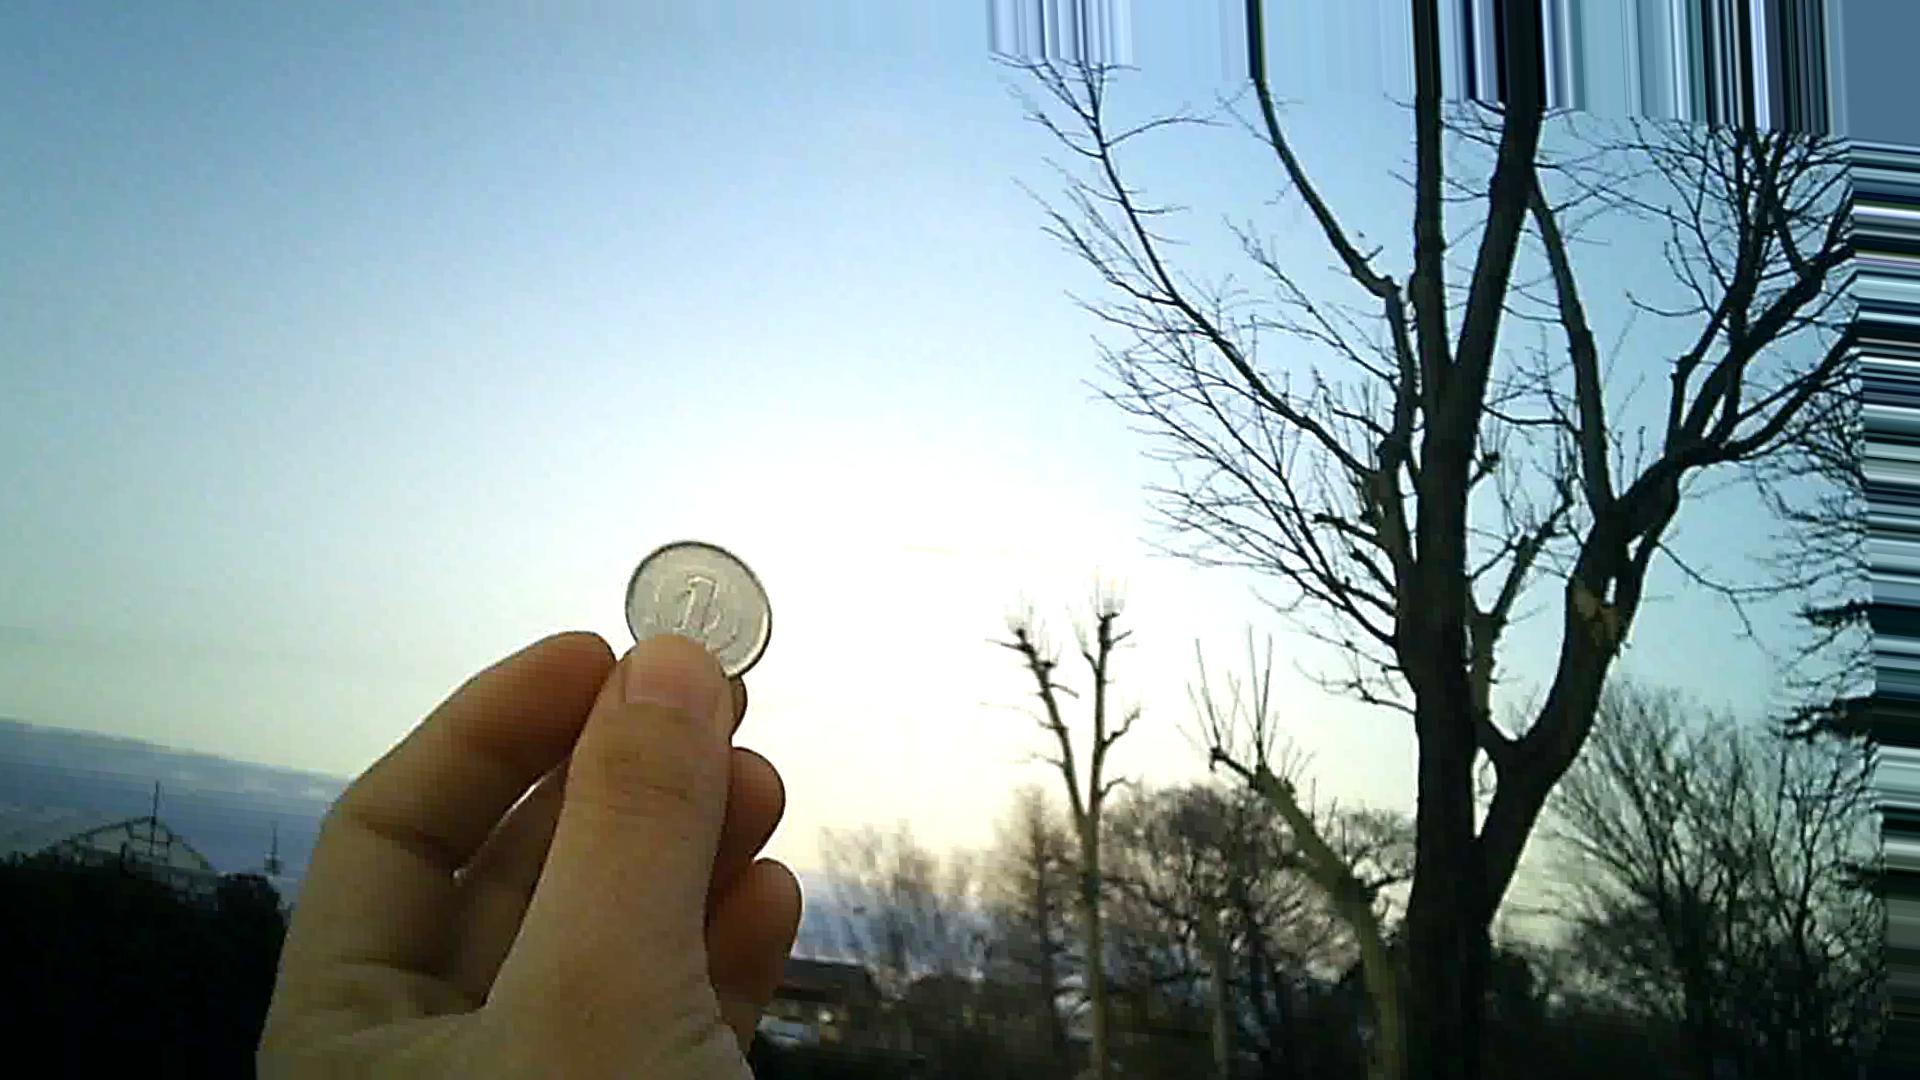1 Yen: (630, 547, 778, 699)
